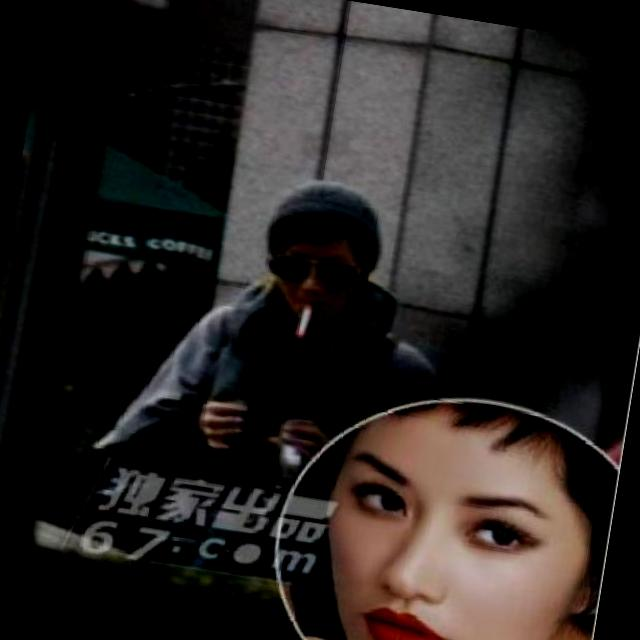smoke: (294, 299, 318, 340)
